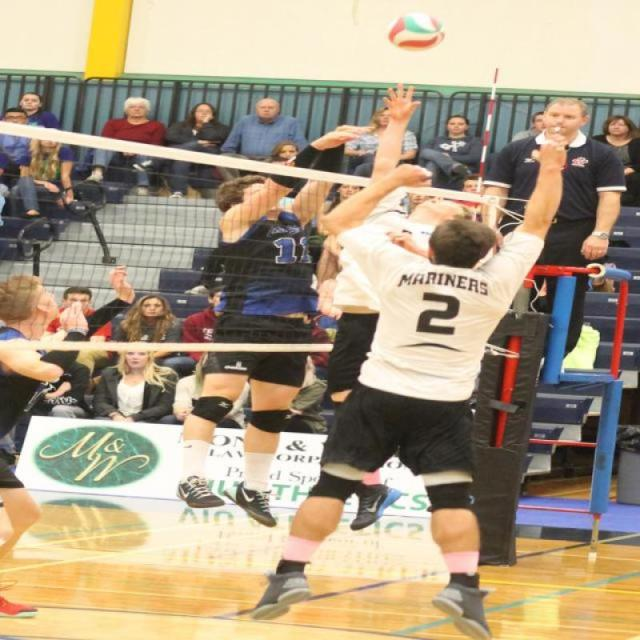volleyball: (386, 9, 448, 53)
